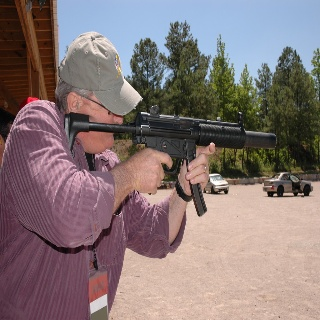rifle: (62, 106, 279, 216)
